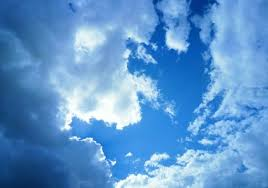sky: (1, 1, 263, 188)
